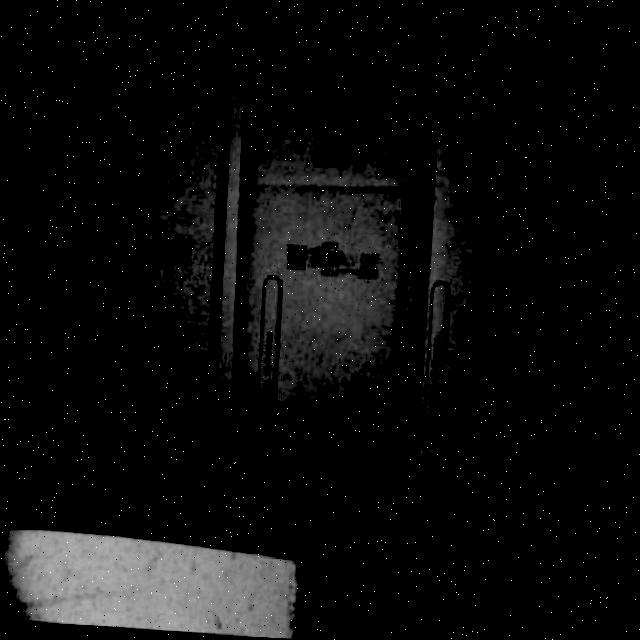box: (35, 51, 258, 457), (226, 46, 440, 456), (414, 65, 622, 458)
